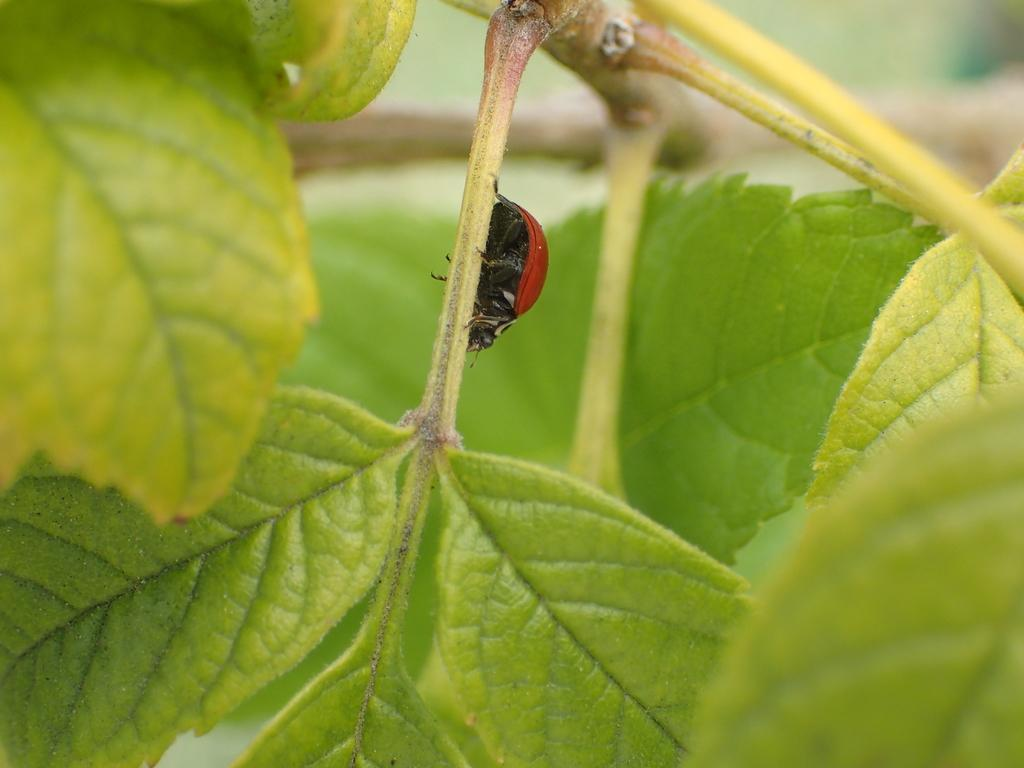ladybug: (431, 169, 553, 371)
